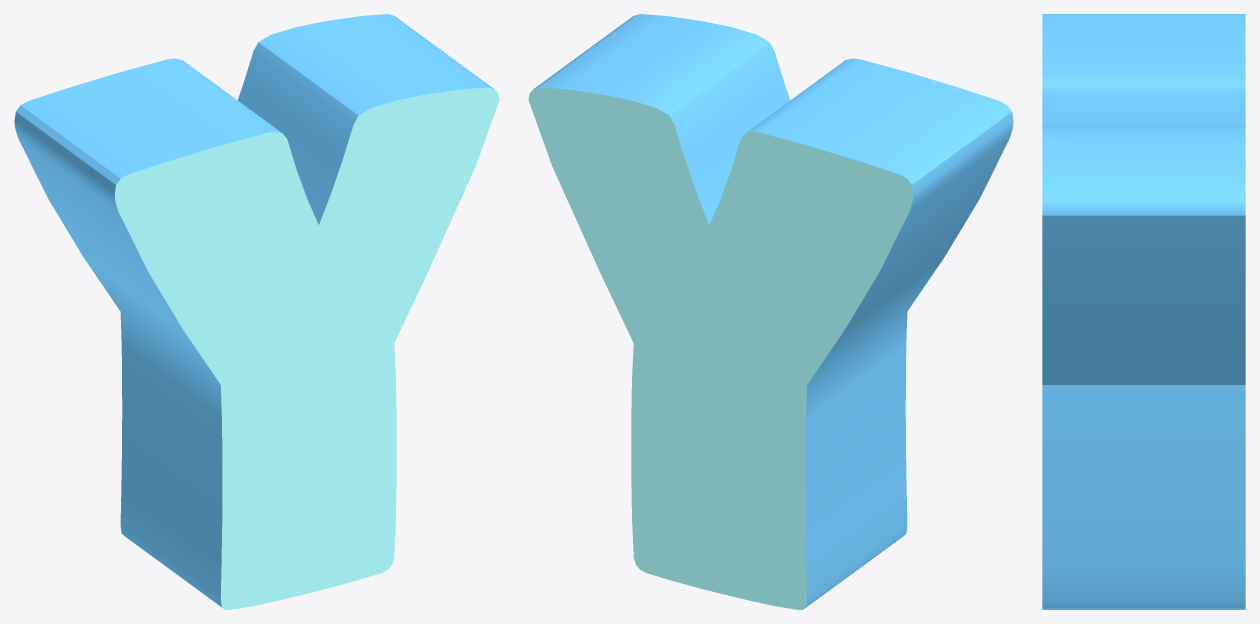
3 renders of one model, left to right at view 1: azimuth 30°, elevation 25°; view 2: azimuth 150°, elevation 25°; view 3: azimuth 270°, elevation 25°, orthographic.
Visible parts, largest first — view 1: y.001; view 2: y.001; view 3: y.001.
Part boxes in pixels (<box>): y.001: <box>14,14,499,609</box>; y.001: <box>528,14,1013,609</box>; y.001: <box>1042,14,1245,609</box>.
Size of what is drawn, in the model's own units: 0.3992 by 0.4672 by 0.18.
